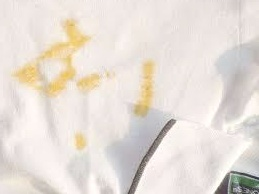mustard: (138, 60, 156, 119), (63, 16, 87, 49), (75, 68, 106, 88), (29, 43, 67, 59), (14, 66, 41, 87), (57, 47, 77, 72), (44, 76, 70, 95), (72, 125, 88, 154)
